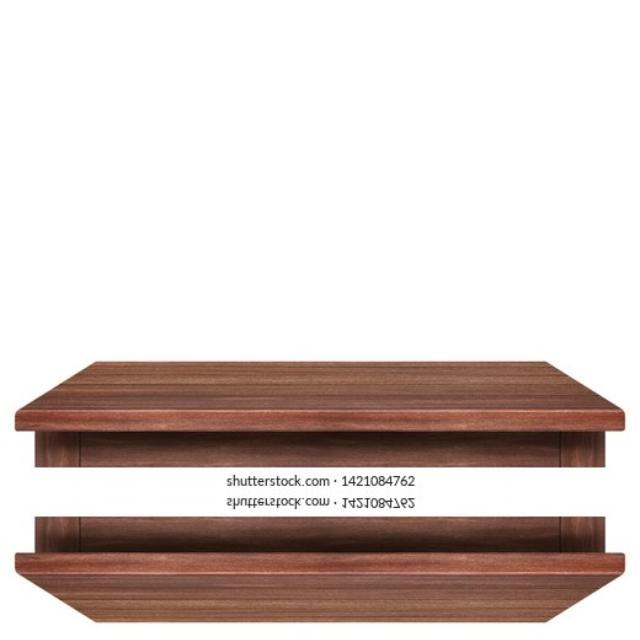obstacle: (18, 309, 632, 481), (17, 502, 632, 640)
